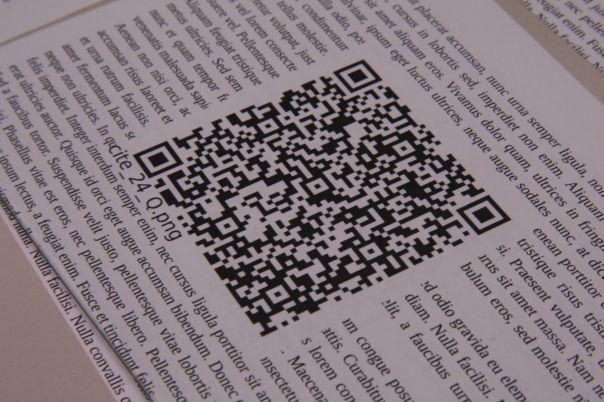qr_code: (133, 60, 511, 337)
